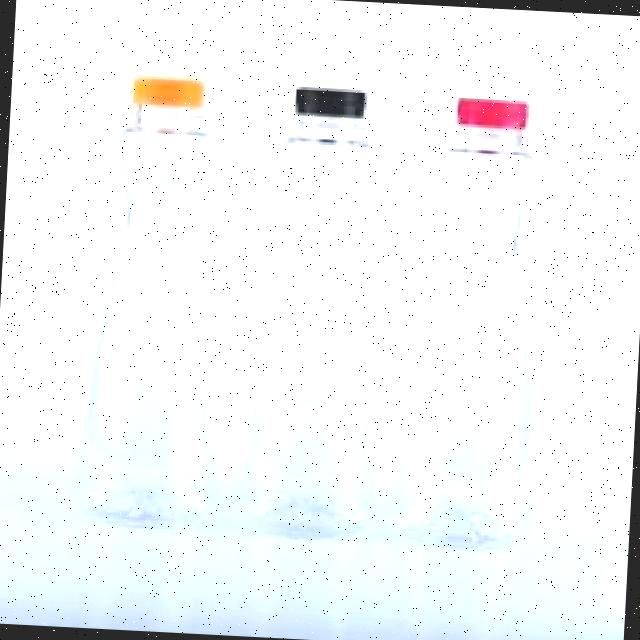bottle: (382, 82, 582, 554), (63, 75, 243, 538), (235, 80, 389, 551)
cap: (455, 93, 530, 137), (291, 83, 369, 125), (134, 75, 208, 107)
